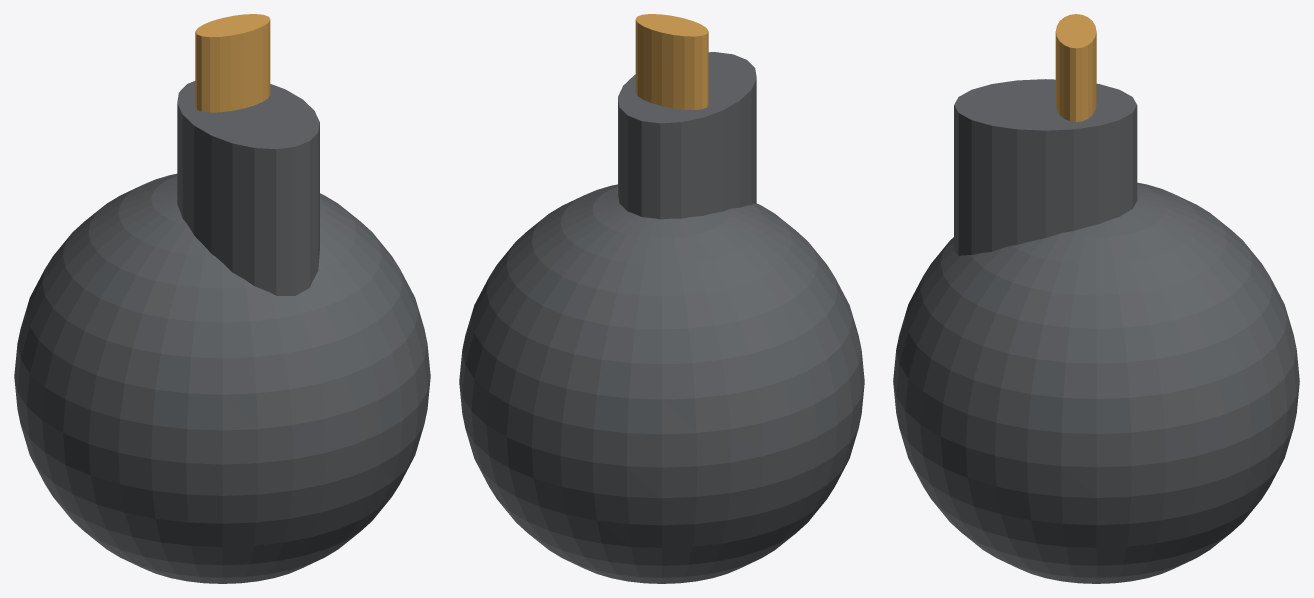
The model's file is bomb.glb.
3 renders of one model, left to right at view 1: azimuth 30°, elevation 25°; view 2: azimuth 150°, elevation 25°; view 3: azimuth 270°, elevation 25°, orthographic. The views are drawn at different scales.
Visible parts, largest first — view 1: Mesh_Mesh_head_geo.001_lambert2SG.001; view 2: Mesh_Mesh_head_geo.001_lambert2SG.001; view 3: Mesh_Mesh_head_geo.001_lambert2SG.001.
Part boxes in pixels (<box>): Mesh_Mesh_head_geo.001_lambert2SG.001: <box>14,14,430,583</box>; Mesh_Mesh_head_geo.001_lambert2SG.001: <box>459,14,864,583</box>; Mesh_Mesh_head_geo.001_lambert2SG.001: <box>893,14,1299,583</box>.
Size of the model in its own units: 20 by 29 by 20.
